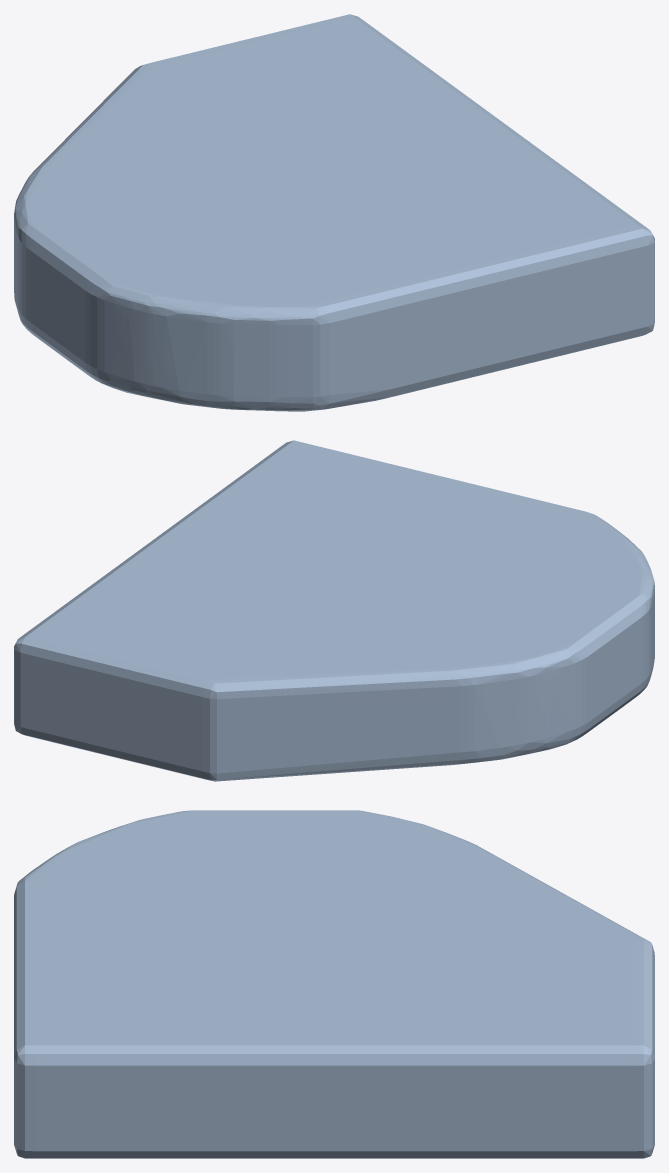
Rendered from right_knee_link_part_6.obj.
3 renders of one model, top to bottom at view 1: azimuth 30°, elevation 25°; view 2: azimuth 150°, elevation 25°; view 3: azimuth 270°, elevation 25°, orthographic. The views are drawn at different scales.
Size of the model in its own units: 0.1076 by 0.023 by 0.1176.
